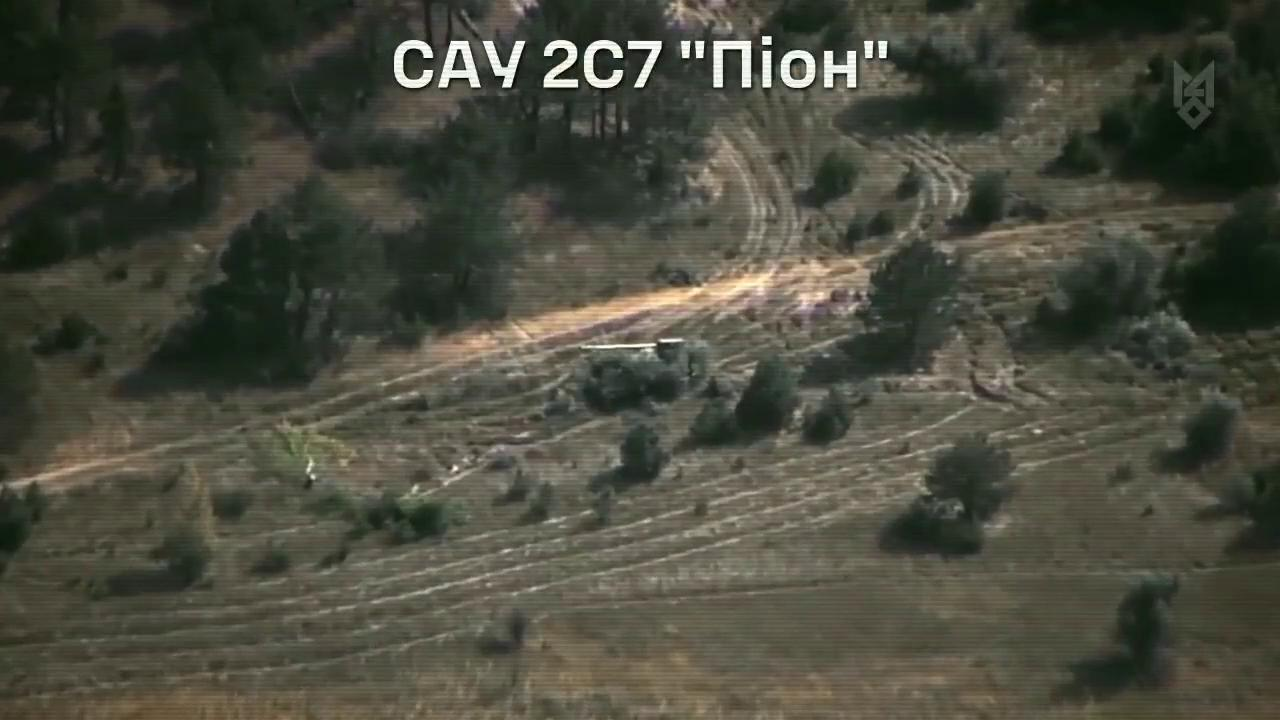tank: (576, 331, 700, 389)
